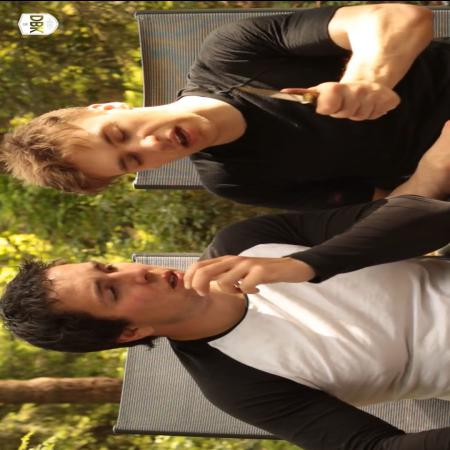long weapon: (225, 75, 372, 121)
